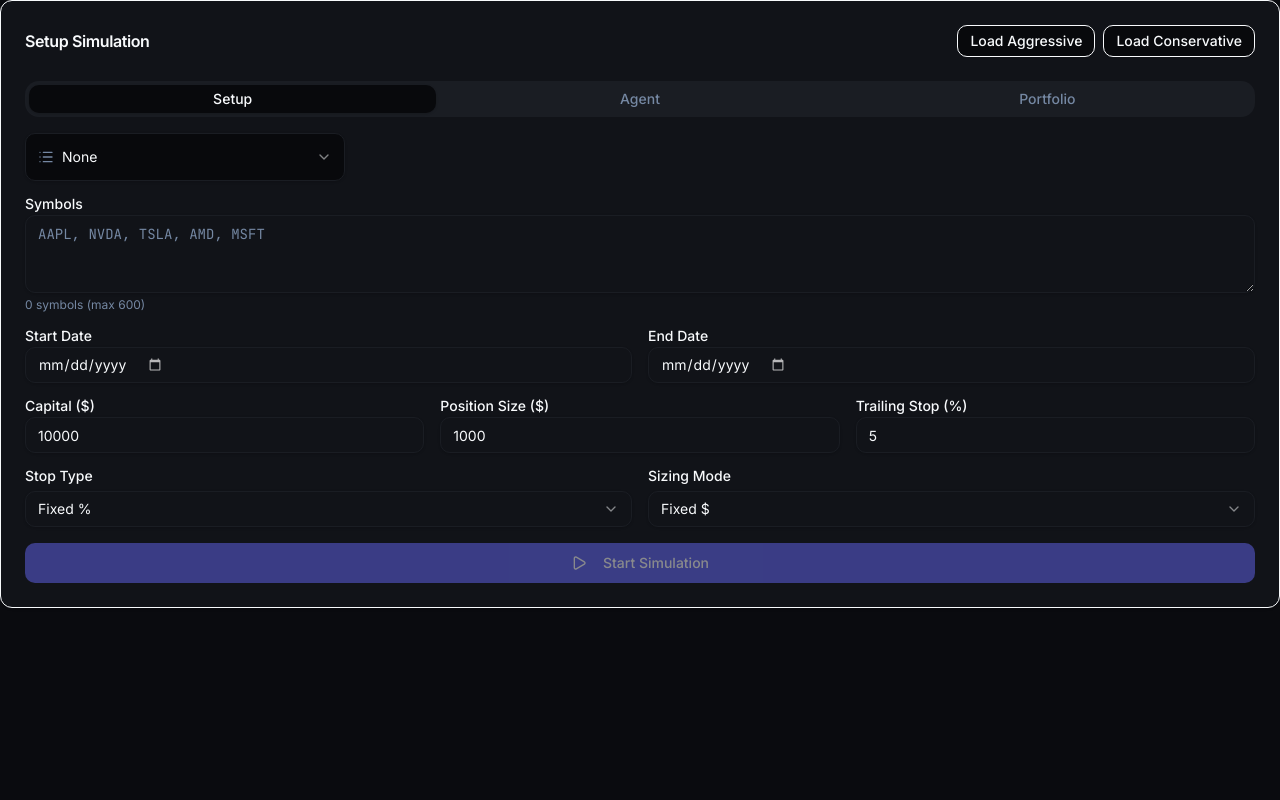
Test case: ArenaSetupForm › should show symbol count when symbols are entered
The image size is (1280, 800).
Type "AAPL, NVDA, TSLA" into the text box labelled "Symbols" at point(640, 254), box [25,215,1255,293]
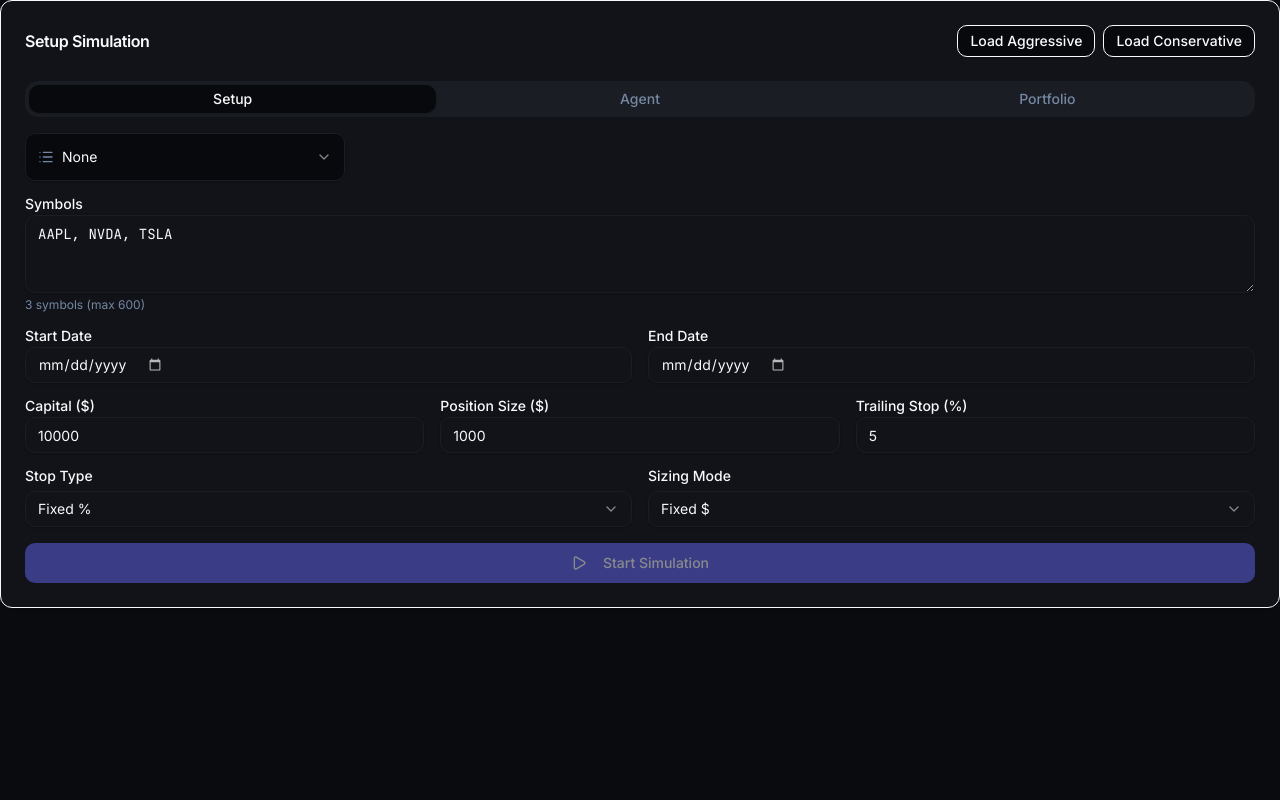
Now the text "3 symbols (max 600)" is shown, box [25,297,145,312]
